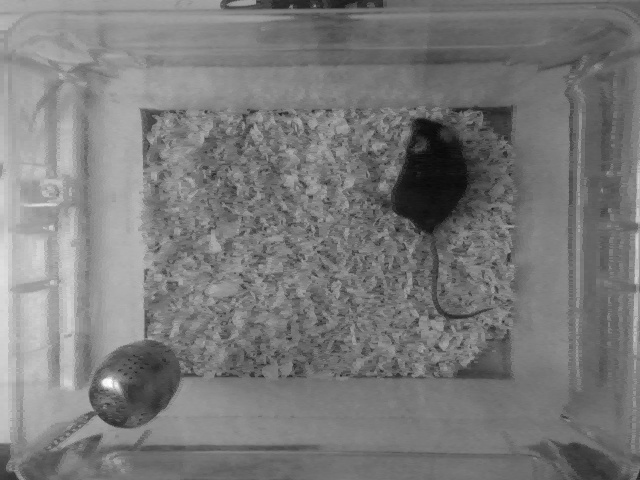mice: (382, 108, 498, 319)
